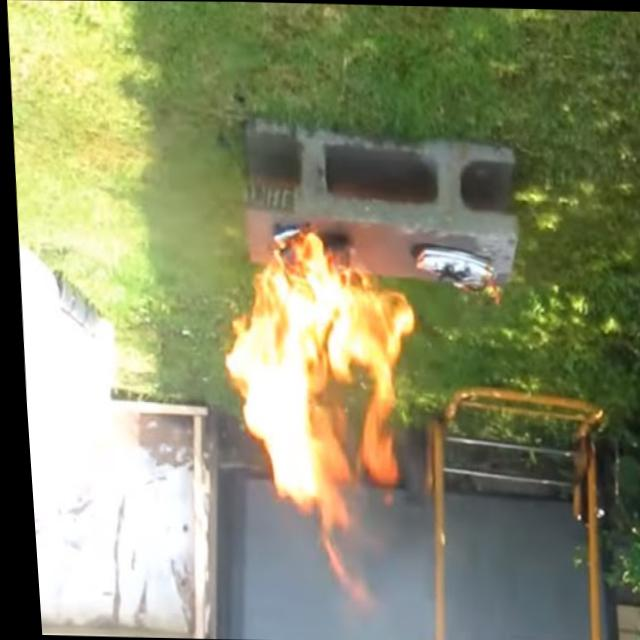Fire: (210, 220, 415, 520)
